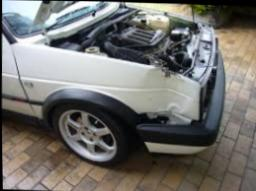Fender: (125, 64, 199, 124)
